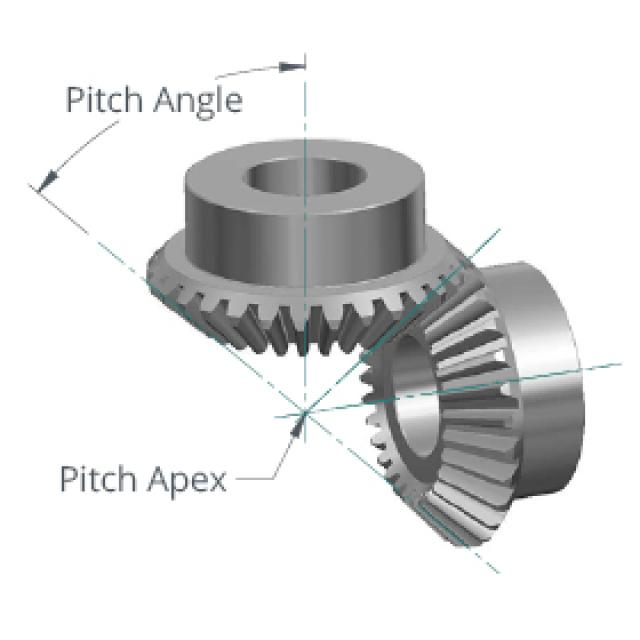Gear: (142, 136, 474, 358), (358, 260, 578, 550)
